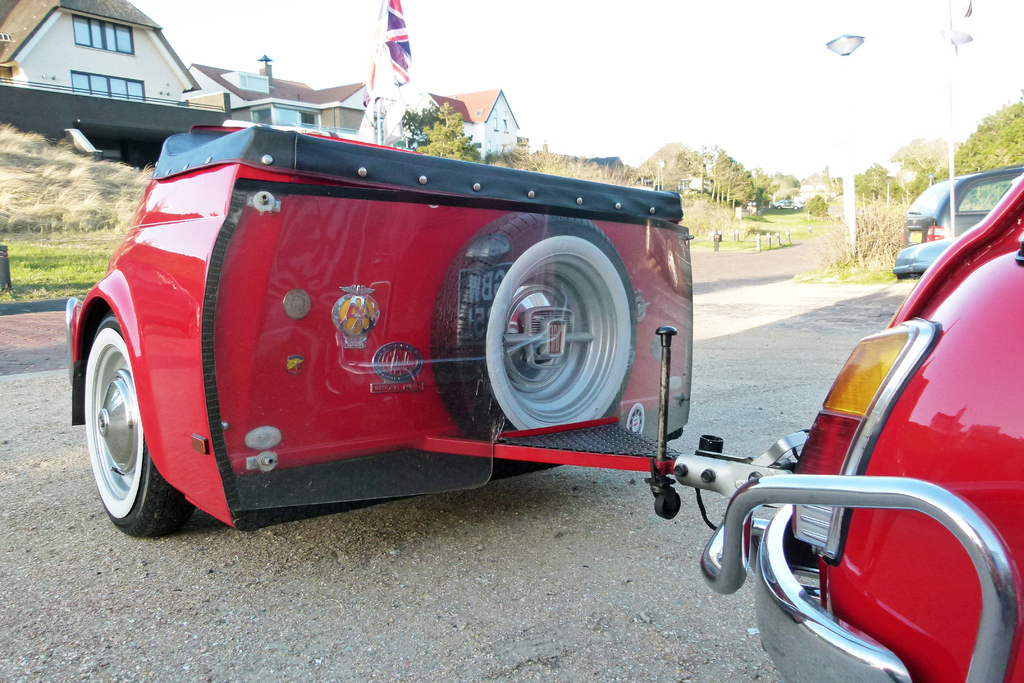Car: (701, 172, 1023, 682), (889, 160, 1023, 272), (772, 197, 798, 209)
